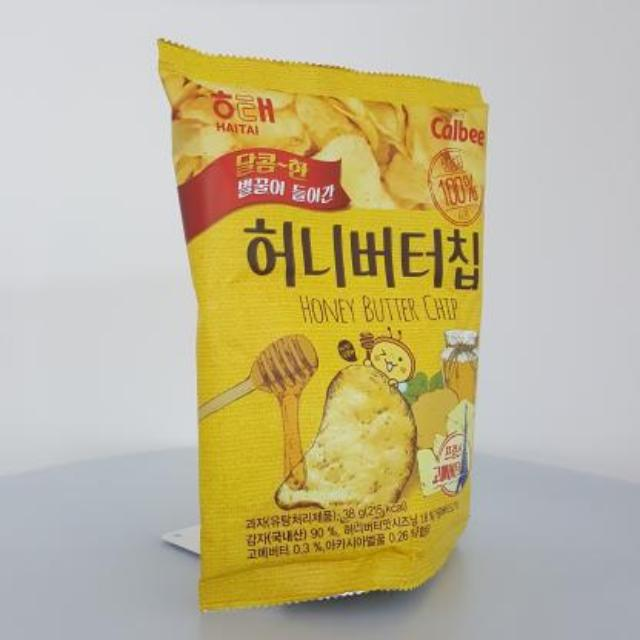snack_bag: (148, 21, 538, 624)
